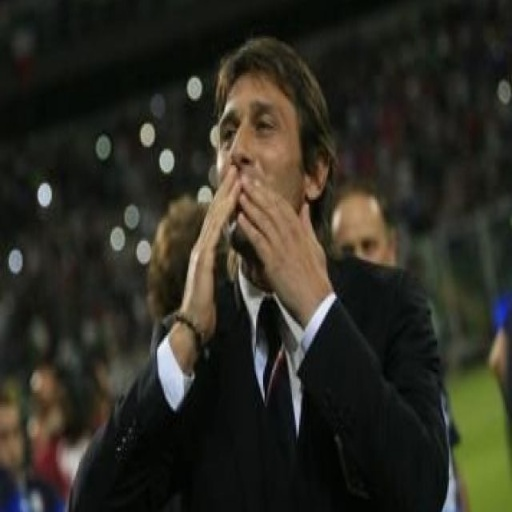hand: (227, 183, 336, 311), (180, 166, 241, 336)
